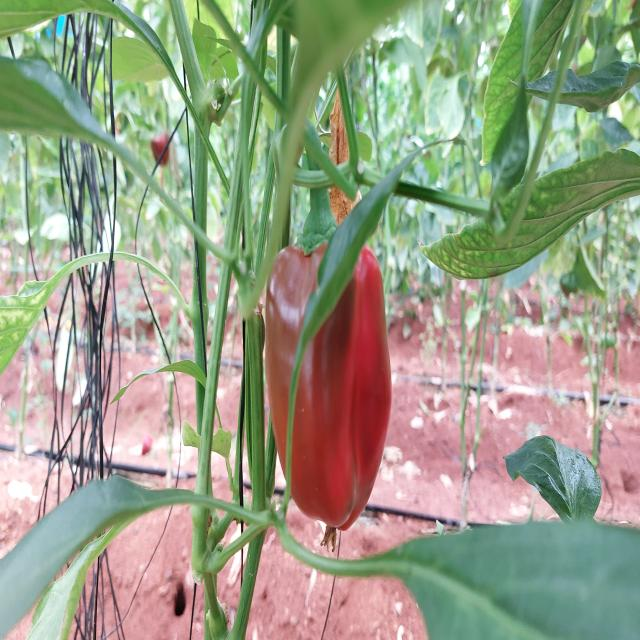Red-Ready-to-Harvest: (259, 236, 401, 543)
